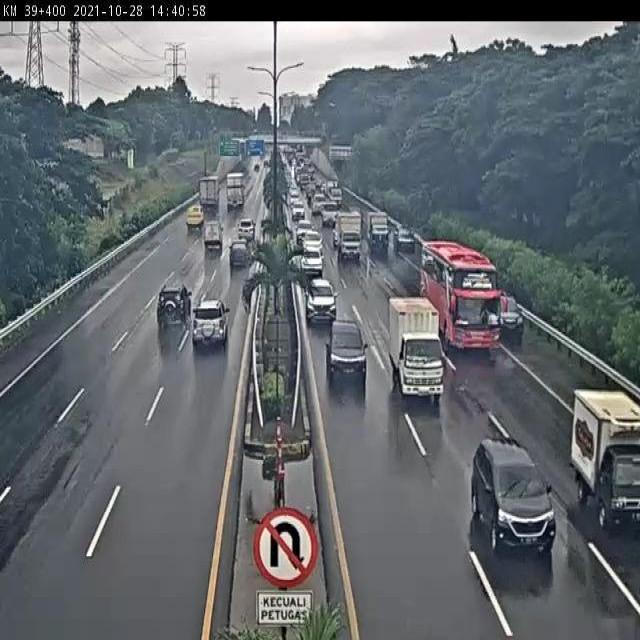car: (470, 435, 557, 557), (328, 323, 369, 383), (192, 299, 228, 347), (302, 279, 338, 325), (156, 281, 192, 327), (495, 295, 525, 337), (228, 238, 251, 270), (301, 247, 325, 275)
truck: (570, 388, 640, 533), (420, 239, 503, 351), (385, 298, 446, 402)
